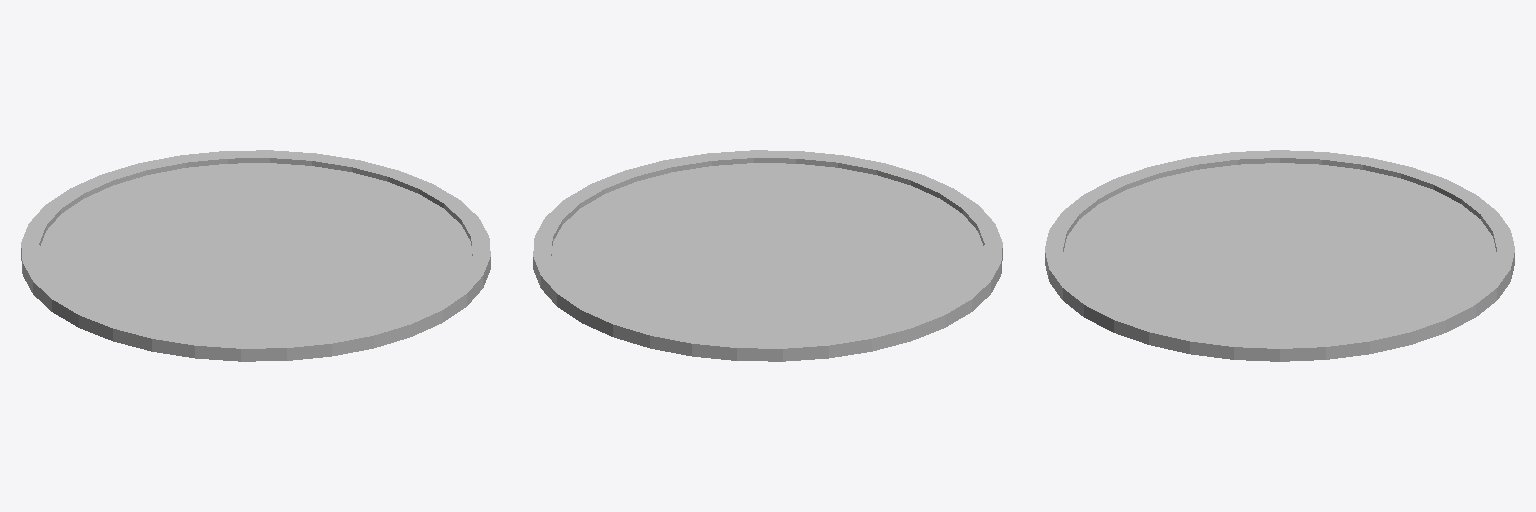
File: puckhires.obj
3 renders of one model, left to right at view 1: azimuth 30°, elevation 25°; view 2: azimuth 150°, elevation 25°; view 3: azimuth 270°, elevation 25°, orthographic.
Parts seen in each view (by area): view 1: Cylinder; view 2: Cylinder; view 3: Cylinder.
Part boxes in pixels (left/top/right/bottom): Cylinder: left=21, top=150, right=490, bottom=361; Cylinder: left=533, top=150, right=1002, bottom=361; Cylinder: left=1045, top=150, right=1514, bottom=361.
Size of the model in its own units: 3.46 by 0.1042 by 3.46.